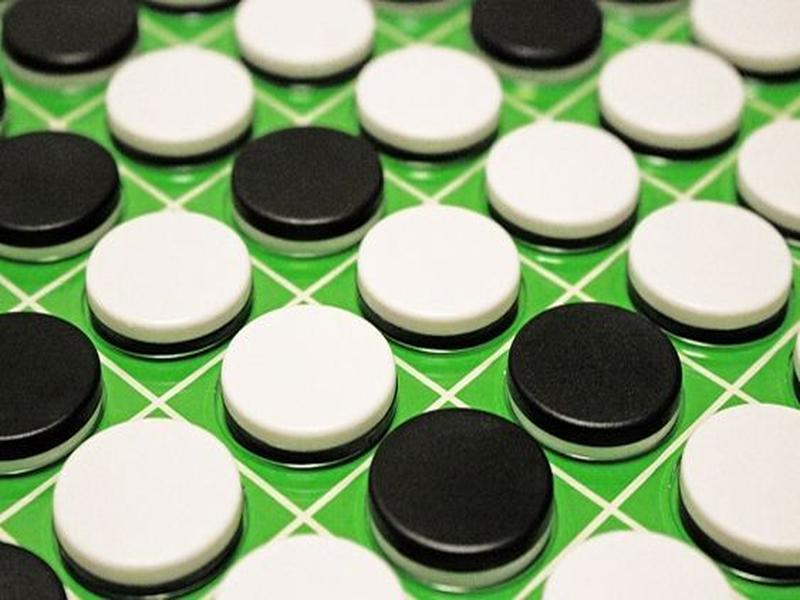black: (366, 405, 565, 591), (492, 299, 705, 455), (205, 109, 391, 250)
white: (223, 309, 400, 482), (86, 212, 253, 373), (345, 201, 533, 334)
